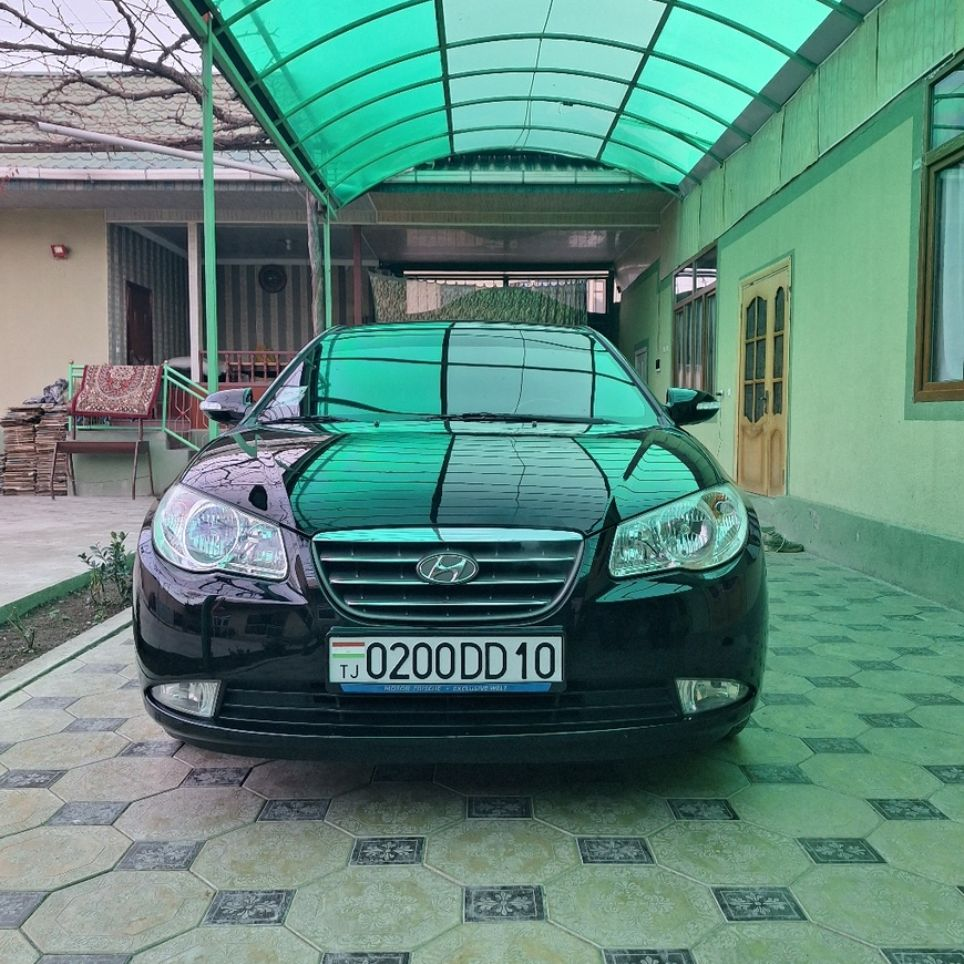license plate: (329, 633, 565, 684)
truck: (123, 317, 775, 772)
